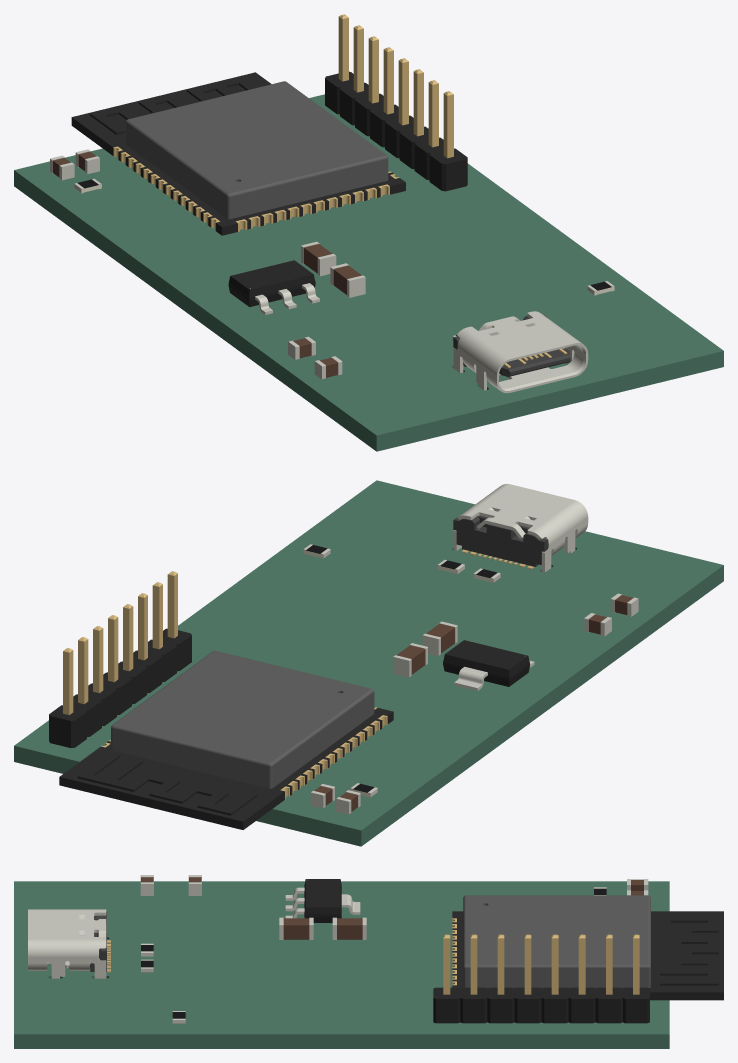
The model's file is ESP32.glb.
3 renders of one model, top to bottom at view 1: azimuth 30°, elevation 25°; view 2: azimuth 150°, elevation 25°; view 3: azimuth 270°, elevation 25°, orthographic. The views are drawn at different scales.
Parts seen in each view (by area): view 1: =>[0:1:1:16], =>[0:1:1:15], =>[0:1:1:3], =>[0:1:1:13], =>[0:1:1:11], =>[0:1:1:5] (×2); view 2: =>[0:1:1:16], =>[0:1:1:15], =>[0:1:1:3], =>[0:1:1:13], =>[0:1:1:11], =>[0:1:1:5] (×2); view 3: =>[0:1:1:16], =>[0:1:1:15], =>[0:1:1:3], =>[0:1:1:13], =>[0:1:1:11], =>[0:1:1:5] (×2).
Part boxes in pixels (x1=…): =>[0:1:1:16]: x1=14, y1=94, x2=723, y2=451; =>[0:1:1:15]: x1=71, y1=72, x2=405, y2=235; =>[0:1:1:3]: x1=325, y1=14, x2=467, y2=191; =>[0:1:1:13]: x1=453, y1=311, x2=588, y2=393; =>[0:1:1:11]: x1=228, y1=260, x2=319, y2=314; =>[0:1:1:5] (×2): x1=301, y1=241, x2=365, y2=297; =>[0:1:1:16]: x1=14, y1=480, x2=723, y2=846; =>[0:1:1:15]: x1=59, y1=650, x2=393, y2=829; =>[0:1:1:3]: x1=49, y1=571, x2=191, y2=747; =>[0:1:1:13]: x1=453, y1=483, x2=588, y2=572; =>[0:1:1:11]: x1=443, y1=640, x2=534, y2=690; =>[0:1:1:5] (×2): x1=393, y1=621, x2=457, y2=677; =>[0:1:1:16]: x1=14, y1=881, x2=669, y2=1048; =>[0:1:1:15]: x1=452, y1=895, x2=723, y2=1000; =>[0:1:1:3]: x1=433, y1=934, x2=649, y2=1023; =>[0:1:1:13]: x1=28, y1=909, x2=110, y2=978; =>[0:1:1:11]: x1=285, y1=879, x2=360, y2=922; =>[0:1:1:5] (×2): x1=279, y1=917, x2=366, y2=939.
Bounding box in the file's own units: 0.034 × 0.0115 × 0.0666.
